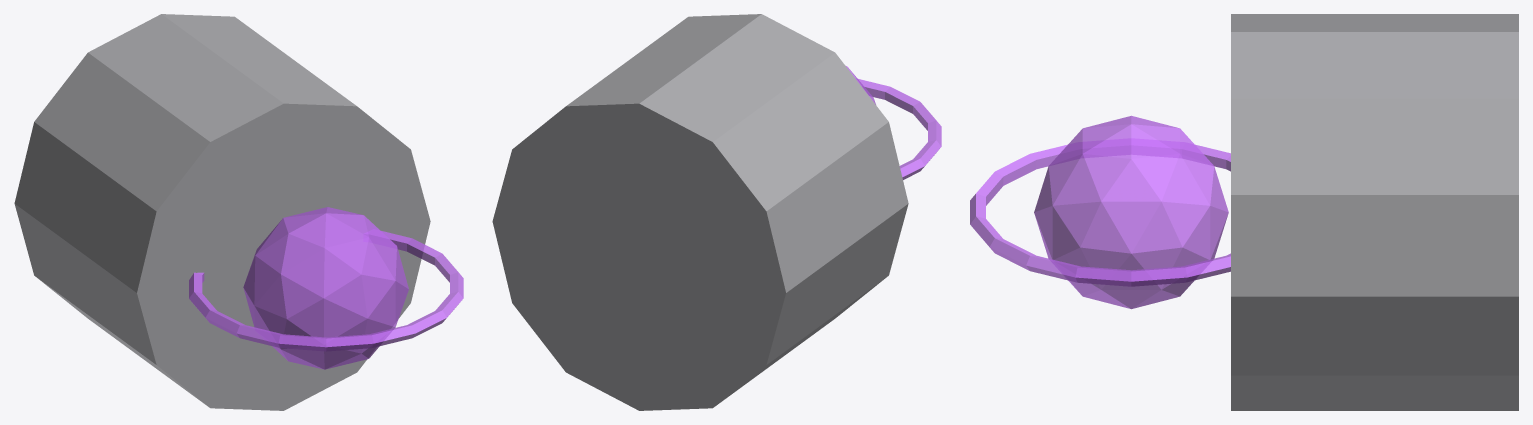
Rendered from memory_crystal_story.glb.
3 views of the same model, side by side, from view 1: azimuth 30°, elevation 25°; view 2: azimuth 150°, elevation 25°; view 3: azimuth 270°, elevation 25° (orthographic). The views are drawn at different scales.
Visible parts, largest first — view 1: pedestal, story_relic, relic_halo; view 2: pedestal, relic_halo; view 3: pedestal, story_relic, relic_halo.
Part boxes in pixels (x1,y1,x2,y2): pedestal: (14, 14, 430, 410); story_relic: (243, 207, 408, 369); relic_halo: (189, 231, 463, 351); pedestal: (492, 14, 908, 410); relic_halo: (858, 79, 941, 179); pedestal: (1231, 14, 1518, 410); story_relic: (1034, 115, 1228, 309); relic_halo: (970, 144, 1230, 286).
Size of the model in its own units: 0.9 by 0.9 by 1.24.
